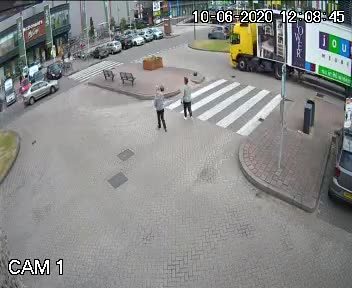car: (221, 8, 352, 114), (19, 72, 63, 103)
